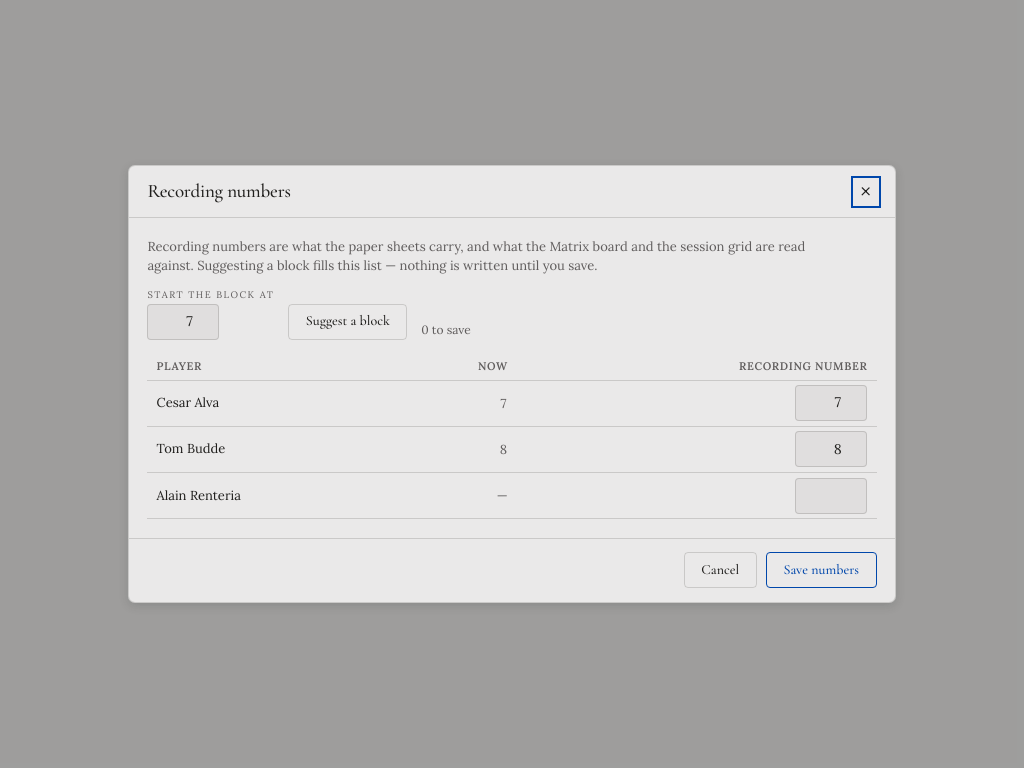
Test: refusing before it writes › refuses a number that is not a whole number of 1 or more
This screenshot has width=1024, height=768.
In the number field in the row of "Alain Renteria": (831, 496) [795,478,867,514], type "0"
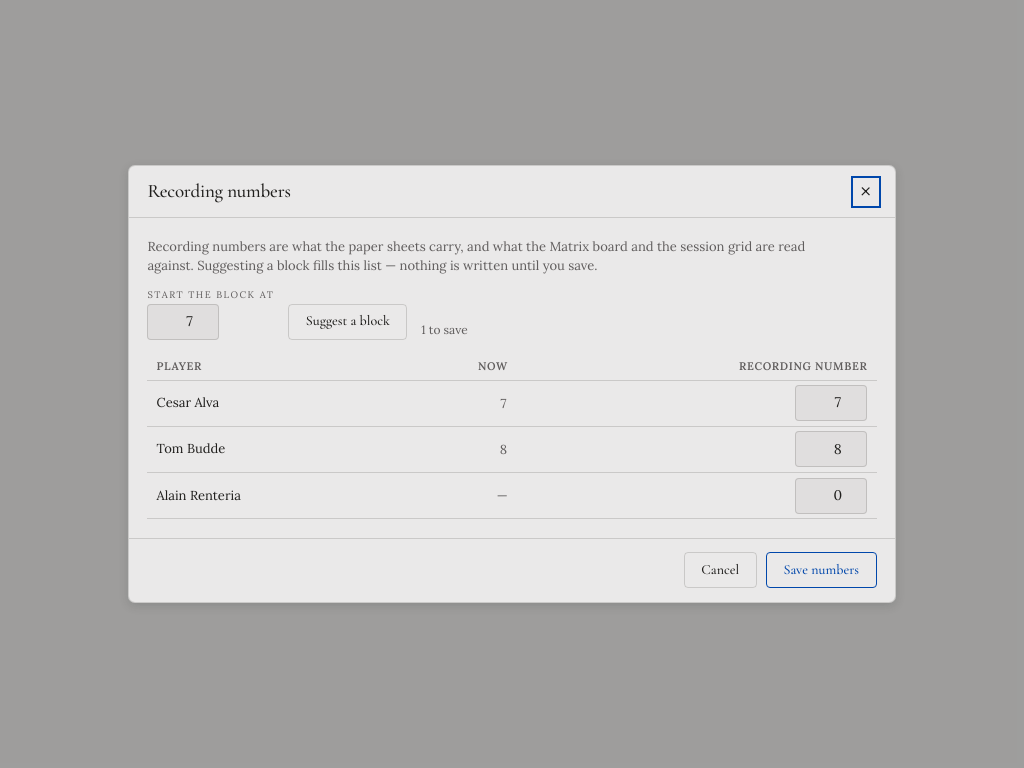
Click the button "Save numbers": (821, 570) [766,552,877,588]
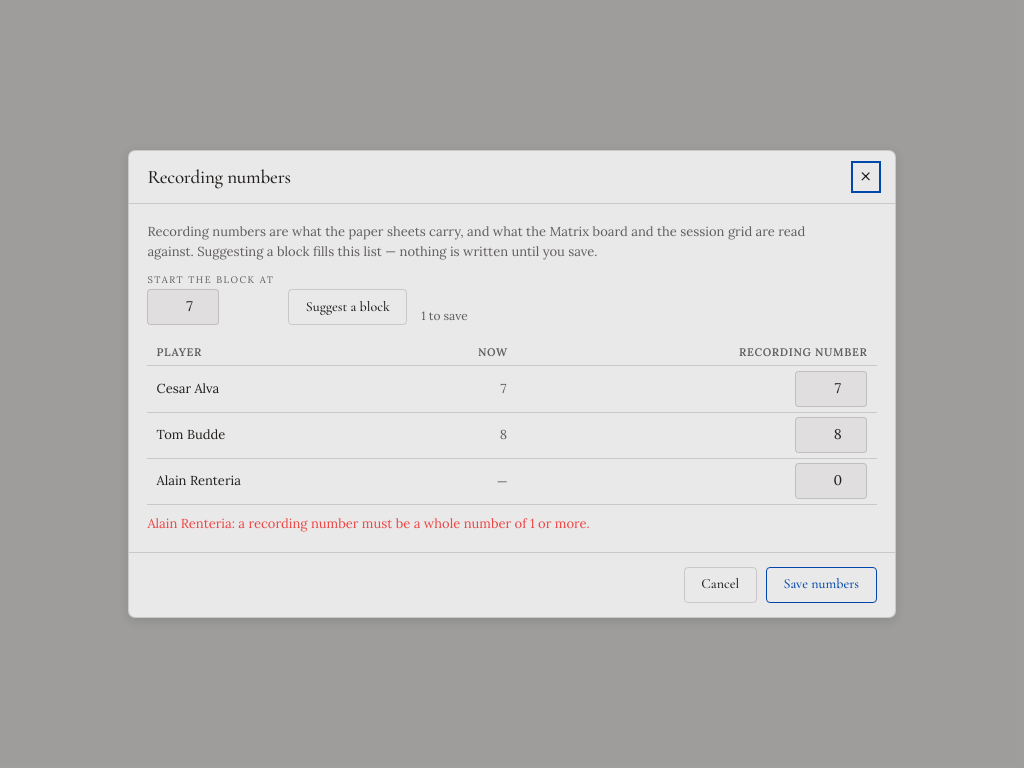
Now the message "Alain Renteria: a recording number must be a whole number of 1 or more." is shown, box [147,515,590,532]
